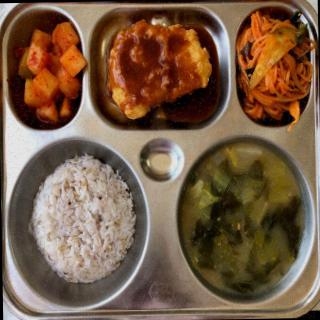Nasi: (32, 156, 136, 284)
